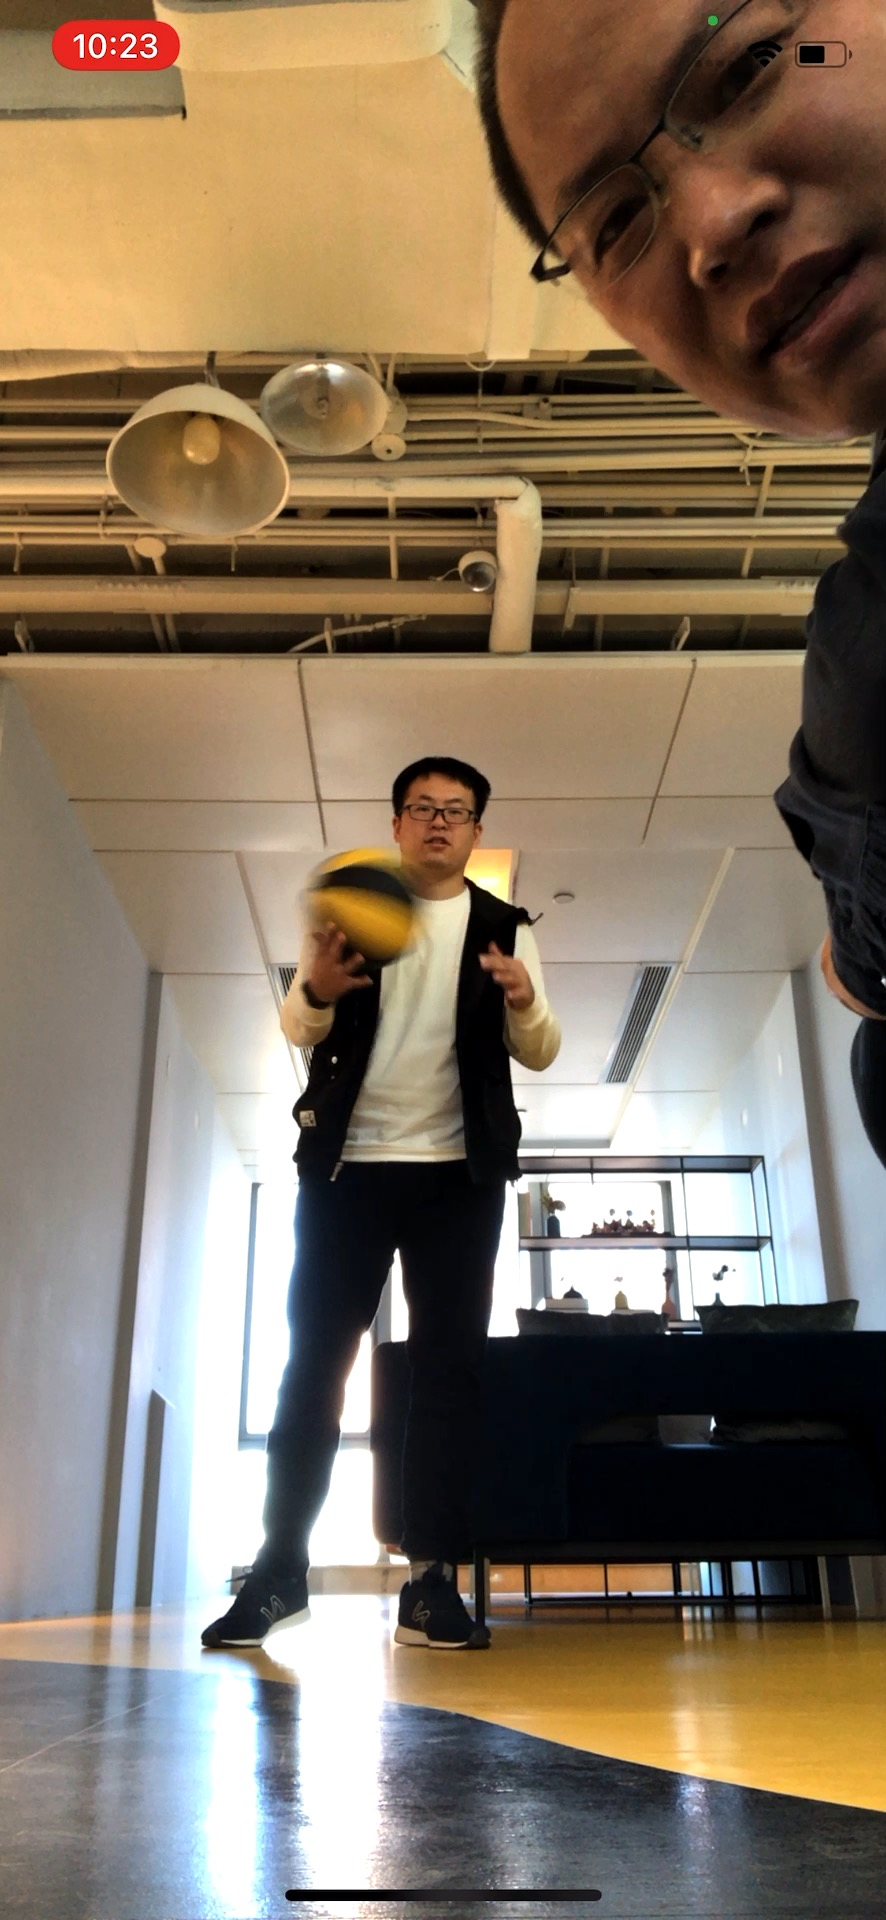ball: (299, 857, 419, 962)
